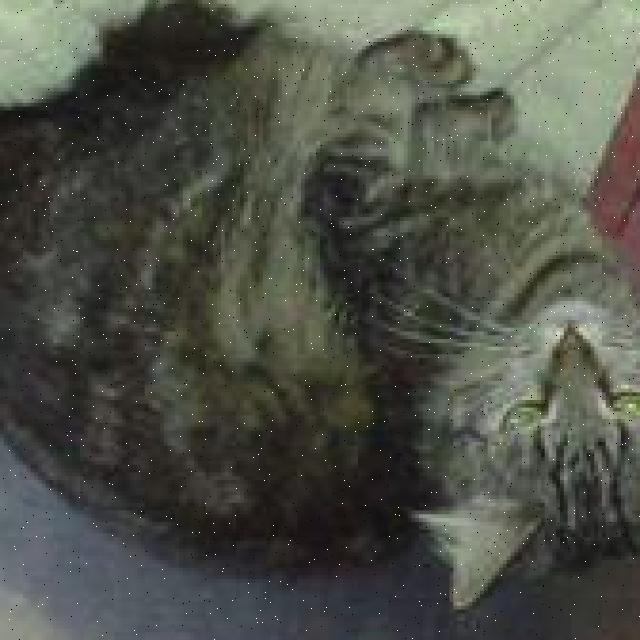Cat: (411, 282, 640, 617)
